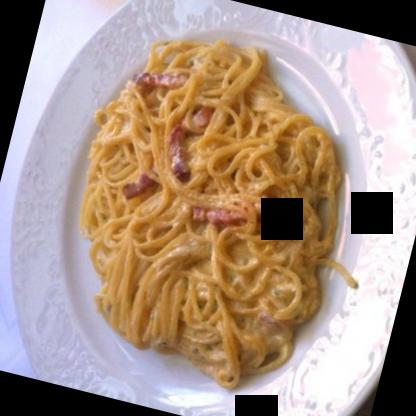pasta: (49, 13, 368, 387)
